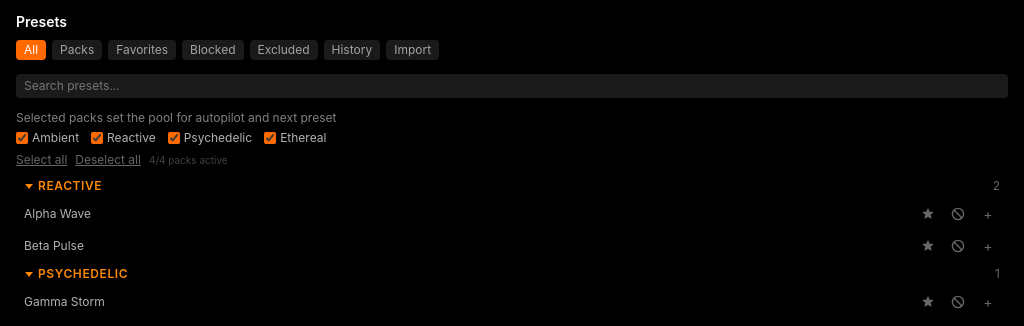
Test: PresetBrowser › shows empty state when no presets match
This screenshot has width=1024, height=326.
Type "zzzzz" into the field with placeholder "Search presets...".
click(512, 86); type("zzzzz")  # box [16,74,1008,98]
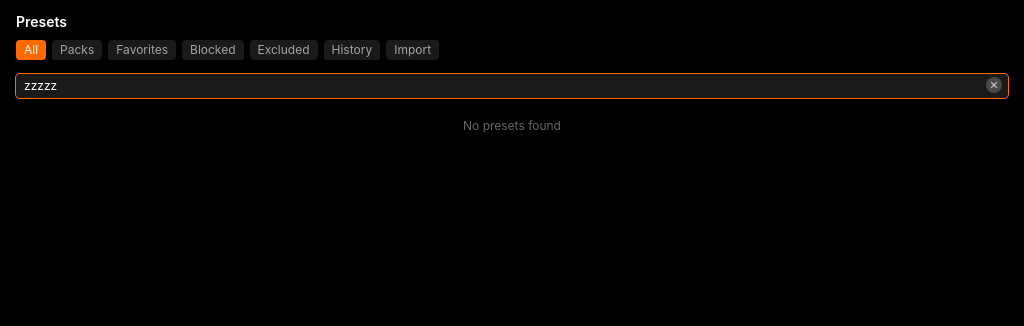
Expected: the text "No presets found" is shown, [463,118,561,133]
